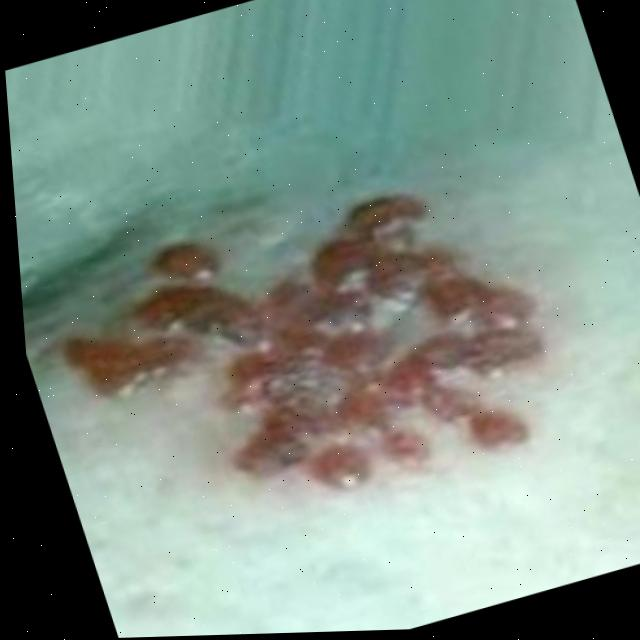Shingles: (23, 115, 580, 565)
